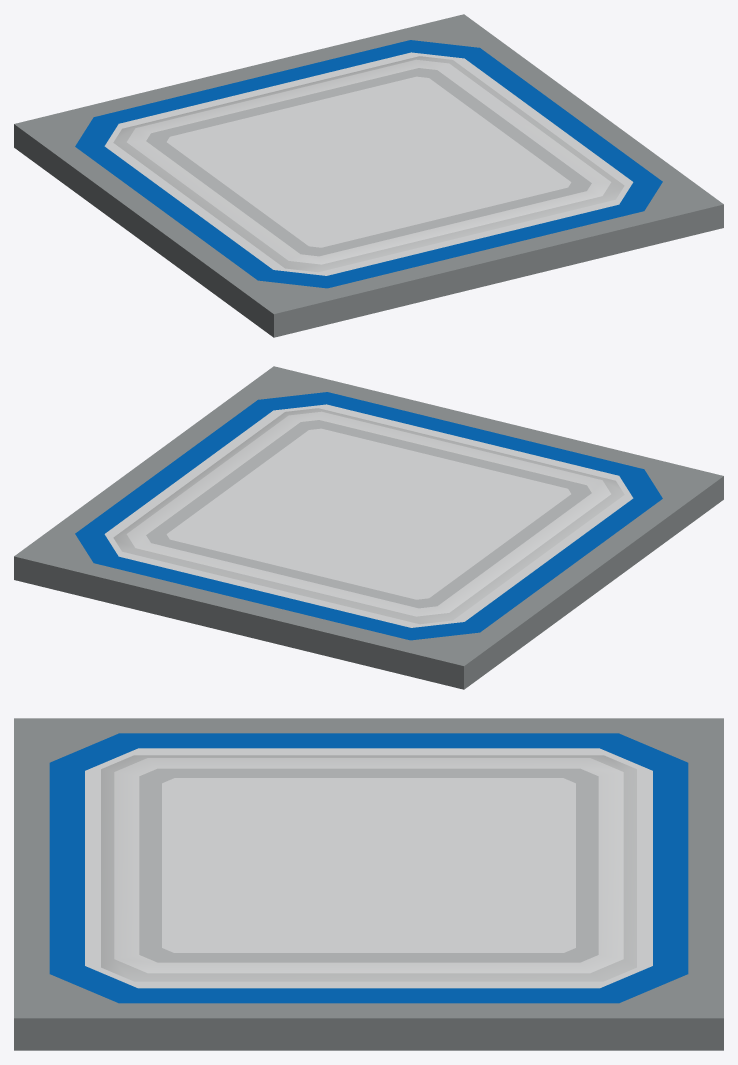
The model's file is Platform_001.fbx.
3 renders of one model, top to bottom at view 1: azimuth 30°, elevation 25°; view 2: azimuth 150°, elevation 25°; view 3: azimuth 270°, elevation 25°, orthographic. The views are drawn at different scales.
Parts seen in each view (by area): view 1: Platform_001; view 2: Platform_001; view 3: Platform_001.
Boxes of the visible parts, bbox=[...] form: Platform_001: bbox=[14, 14, 723, 337]; Platform_001: bbox=[14, 366, 723, 689]; Platform_001: bbox=[14, 718, 723, 1050].
Size of the model in its own units: 400 by 400 by 23.45.
